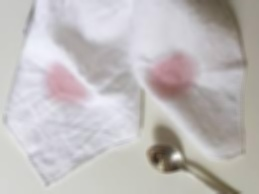wine: (144, 50, 202, 92), (46, 70, 86, 107)
